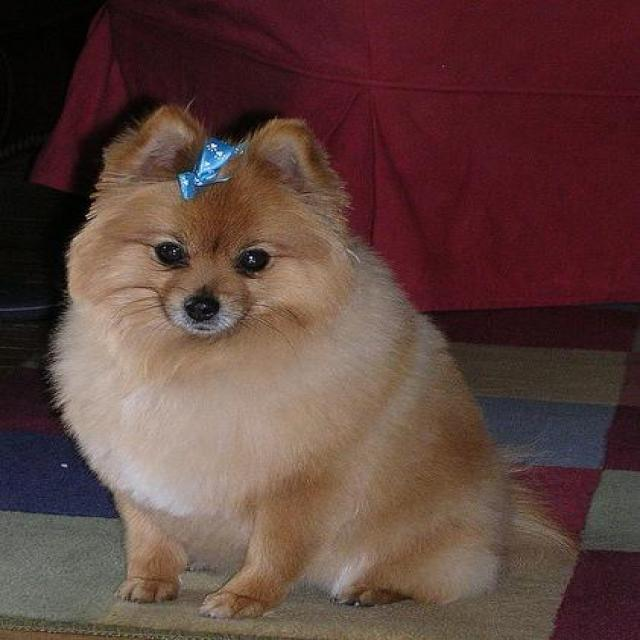sitting: (37, 94, 525, 626)
